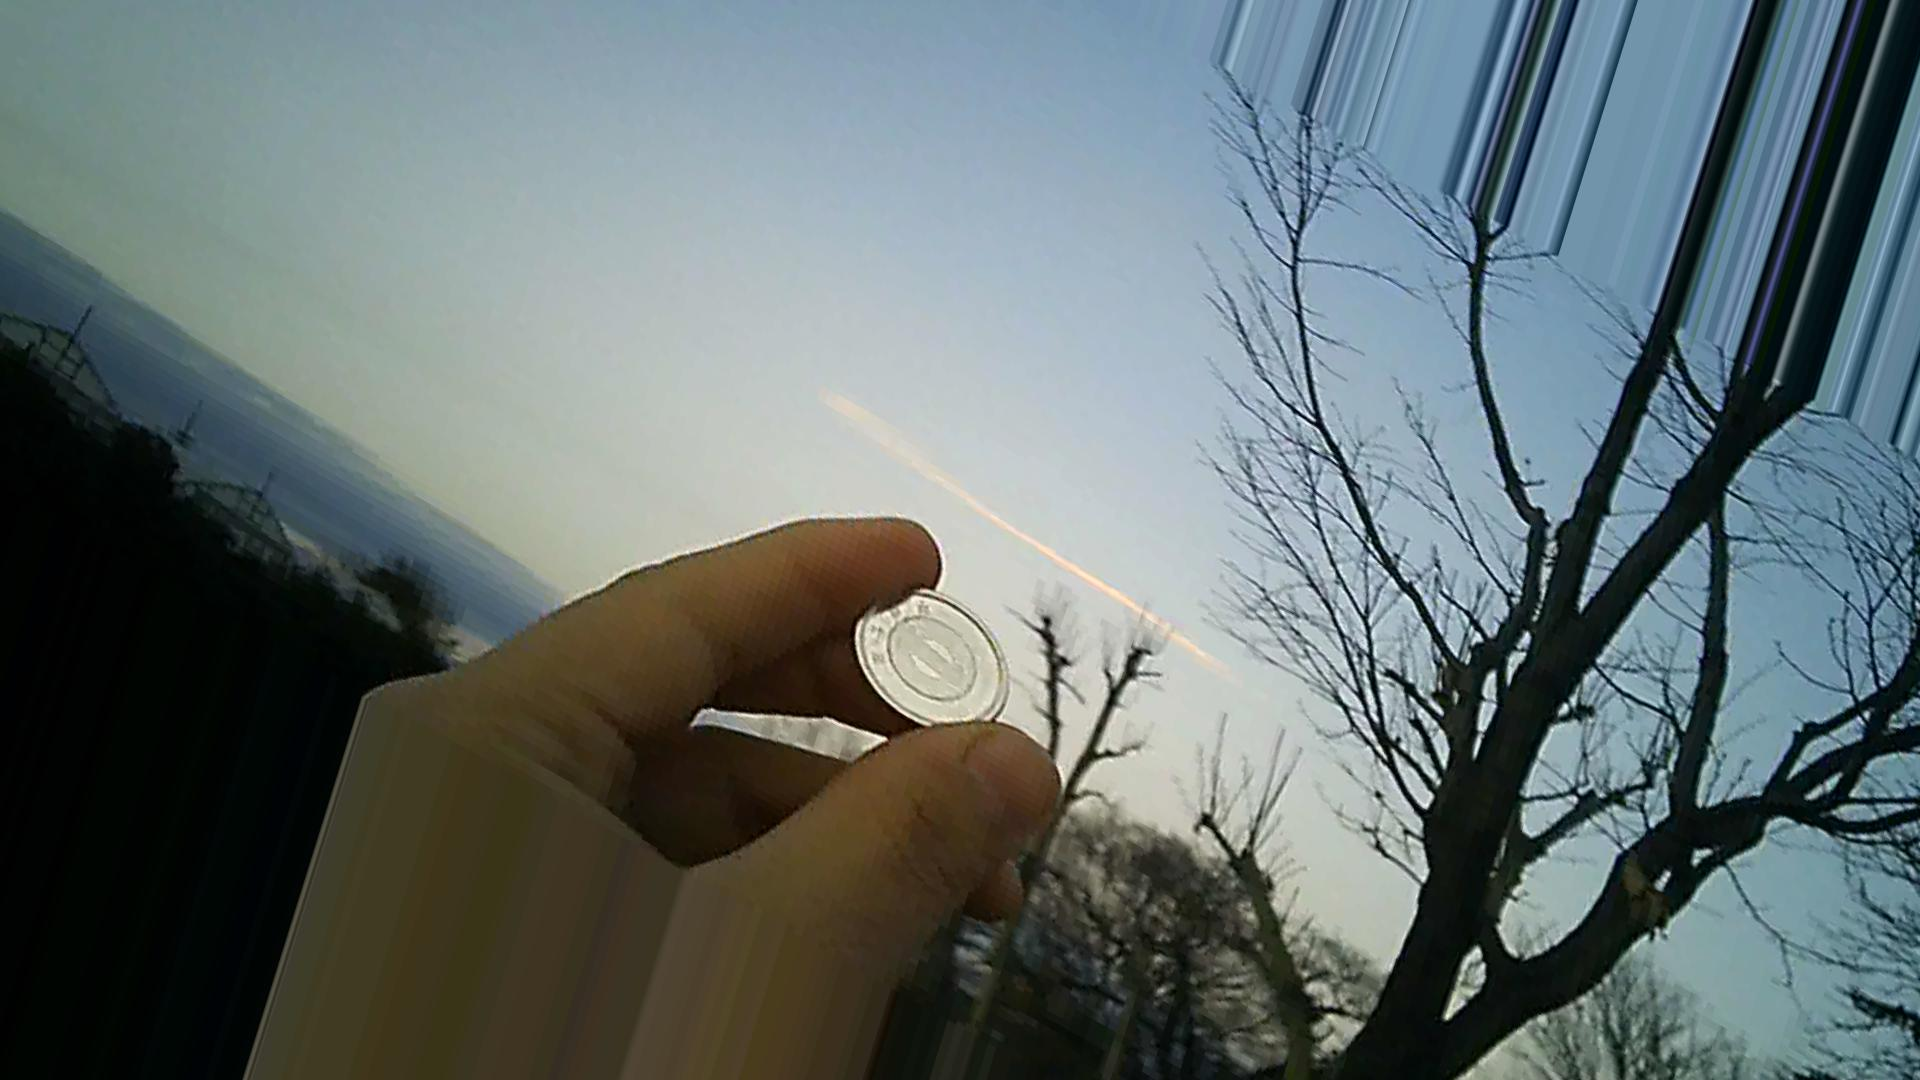1 Yen: (837, 576, 1002, 729)
